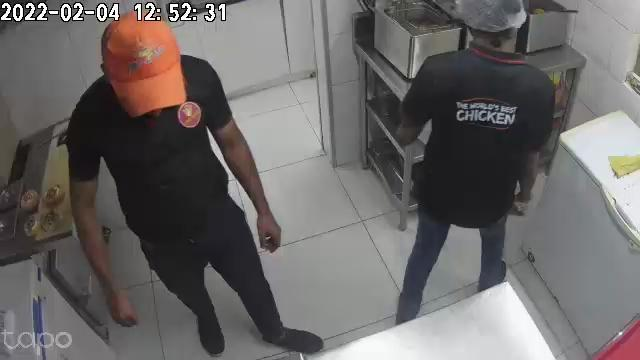no_gloves: (98, 274, 138, 326), (253, 203, 282, 252)
